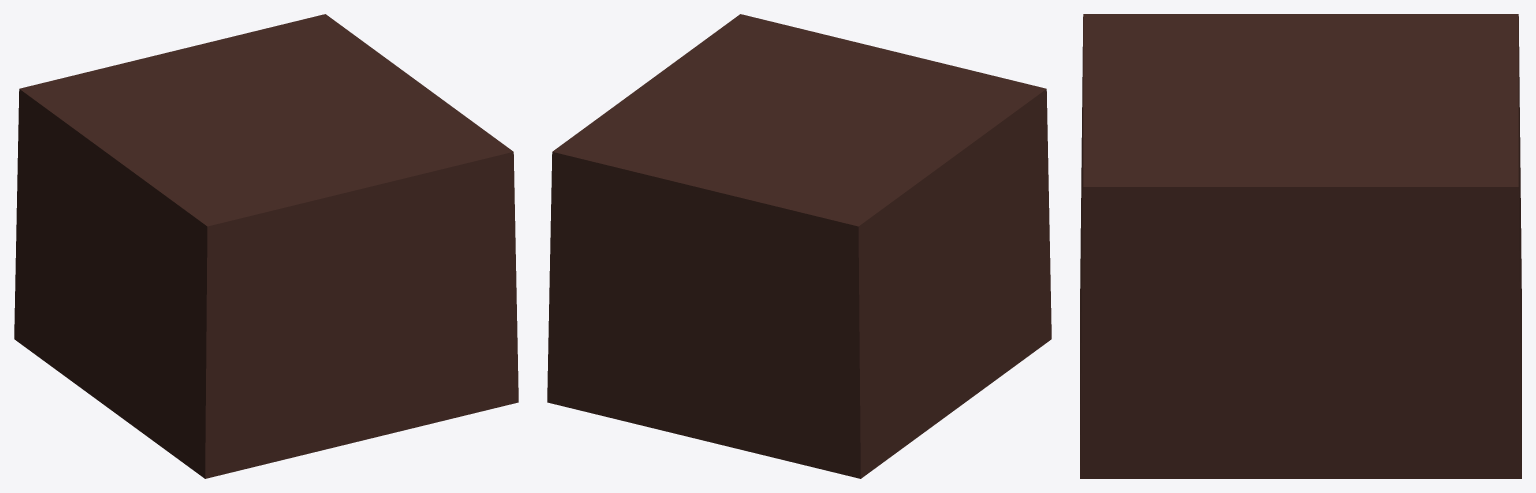
3 renders of one model, left to right at view 1: azimuth 30°, elevation 25°; view 2: azimuth 150°, elevation 25°; view 3: azimuth 270°, elevation 25°, orthographic. The views are drawn at different scales.
Parts seen in each view (by area): view 1: blueprint.057; view 2: blueprint.057; view 3: blueprint.057.
Boxes of the visible parts, <box> form: blueprint.057: <box>14,14,518,478</box>; blueprint.057: <box>547,14,1051,478</box>; blueprint.057: <box>1080,14,1521,478</box>.
Size of the model in its own units: 89.73 by 68.51 by 94.64.
